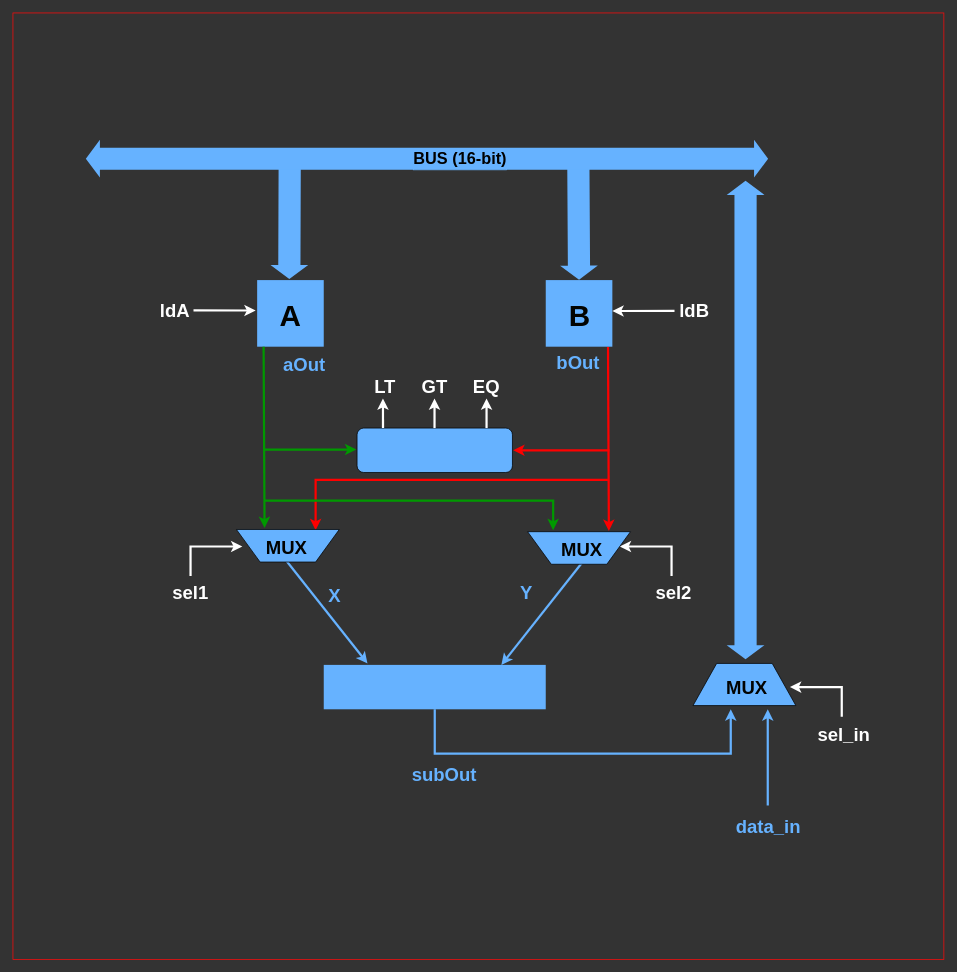
Image size: 957x972. Some labels were removed from this diagram. The centre of each missing label's shape, as x and y in pixels:
COMPARATOR: point 434,449
SUBTRACTOR: point 434,687
